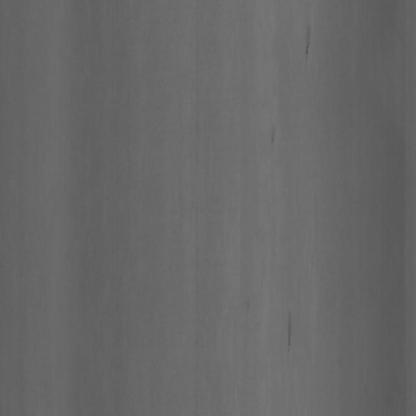water_spot: (299, 19, 319, 86), (278, 304, 302, 352), (264, 121, 288, 164)
